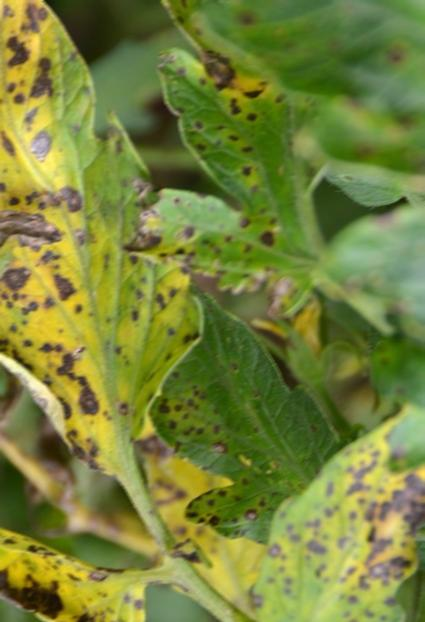Tomato Septoria leaf spot: (0, 0, 198, 491), (147, 0, 356, 316), (264, 407, 425, 622), (0, 513, 163, 622)
